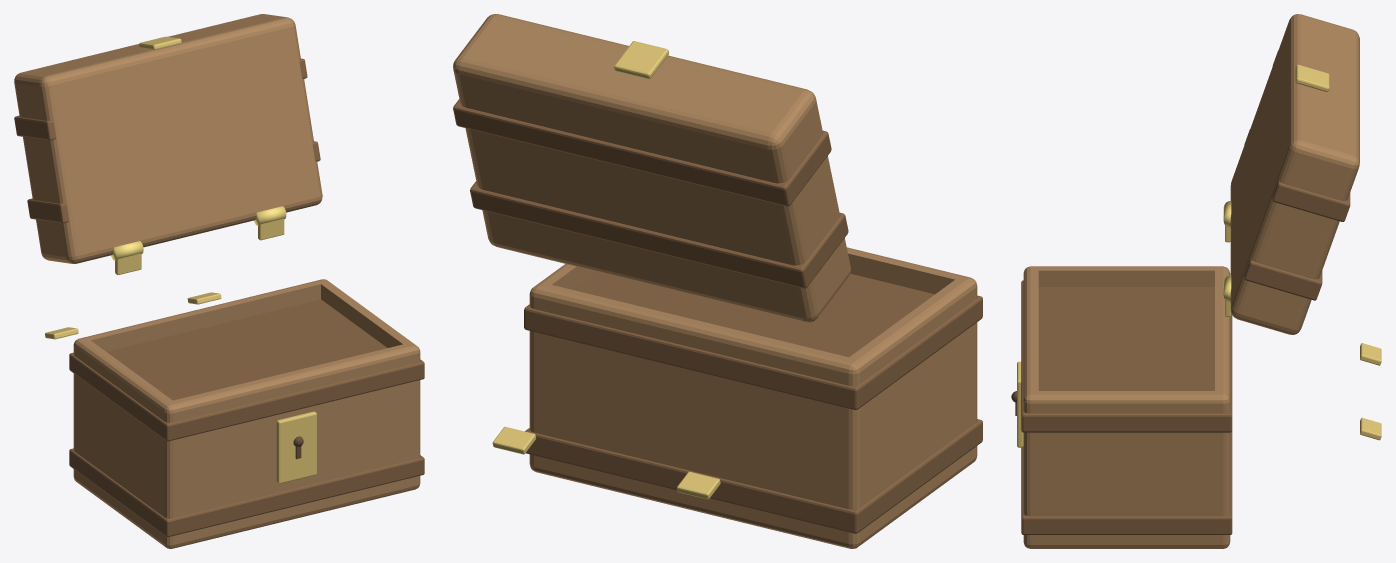
The model's file is stylized_treasure_chest.glb.
3 renders of one model, left to right at view 1: azimuth 30°, elevation 25°; view 2: azimuth 150°, elevation 25°; view 3: azimuth 270°, elevation 25°, orthographic. The views are drawn at different scales.
Parts seen in each view (by area): view 1: ChestBody, ChestLid; view 2: ChestBody, ChestLid, Chest_HingeLidPlate_01, Chest_HingeLidPlate_02; view 3: ChestBody, ChestLid.
Boxes of the visible parts, x1,y1,x2,y2 form: ChestBody: (69,279,424,548); ChestLid: (14,14,322,263); ChestBody: (524,247,982,548); ChestLid: (453,14,850,322); Chest_HingeLidPlate_01: (677,471,720,499); Chest_HingeLidPlate_02: (492,426,536,454); ChestBody: (1011,266,1232,548); ChestLid: (1230,14,1359,334).
Size of the model in its own units: 1.47 by 2.1 by 1.7.
